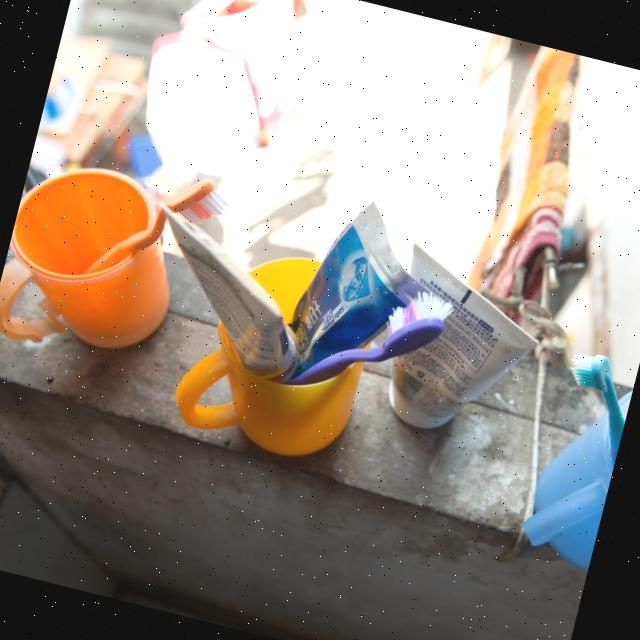Toothpaste: (120, 148, 443, 414)
